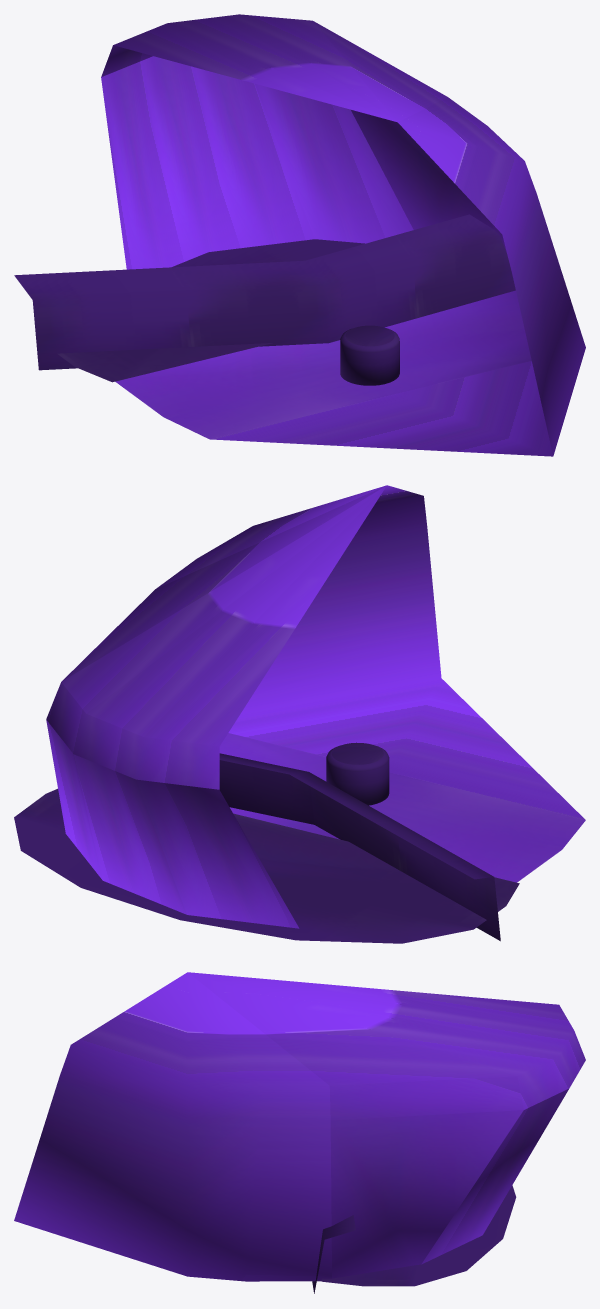
Rendered from tent.glb.
3 views of the same model, one above another, from view 1: azimuth 30°, elevation 25°; view 2: azimuth 150°, elevation 25°; view 3: azimuth 270°, elevation 25° (orthographic). The views are drawn at different scales.
Visible parts, largest first — view 1: Circle; view 2: Circle; view 3: Circle.
Boxes of the visible parts, <box> form: Circle: <box>14,14,585,456</box>; Circle: <box>14,485,585,943</box>; Circle: <box>14,972,585,1293</box>.
Size of the model in its own units: 12.28 by 7.36 by 16.08.
Materials: 2 (2 with a texture image).
